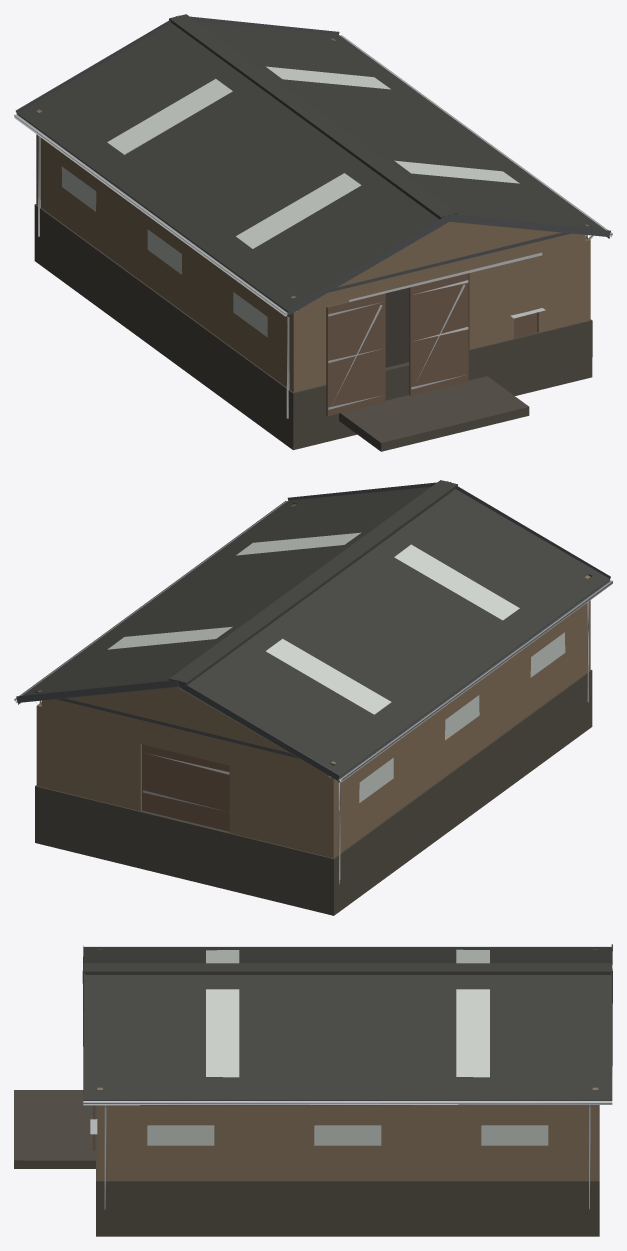
Rendered from barn-modern-lod1.glb.
The picture shows the model from 3 angles, top to bottom: view 1: azimuth 30°, elevation 25°; view 2: azimuth 150°, elevation 25°; view 3: azimuth 270°, elevation 25°; orthographic projection. The views are drawn at different scales.
Parts seen in each view (by area): view 1: barn-modern-plinth.001; view 2: barn-modern-plinth.001; view 3: barn-modern-plinth.001.
Part boxes in pixels (bbox=[...]): barn-modern-plinth.001: bbox=[14, 14, 612, 451]; barn-modern-plinth.001: bbox=[14, 480, 612, 915]; barn-modern-plinth.001: bbox=[14, 944, 612, 1236].
Size of the model in its own units: 13.24 by 7.88 by 21.52.
